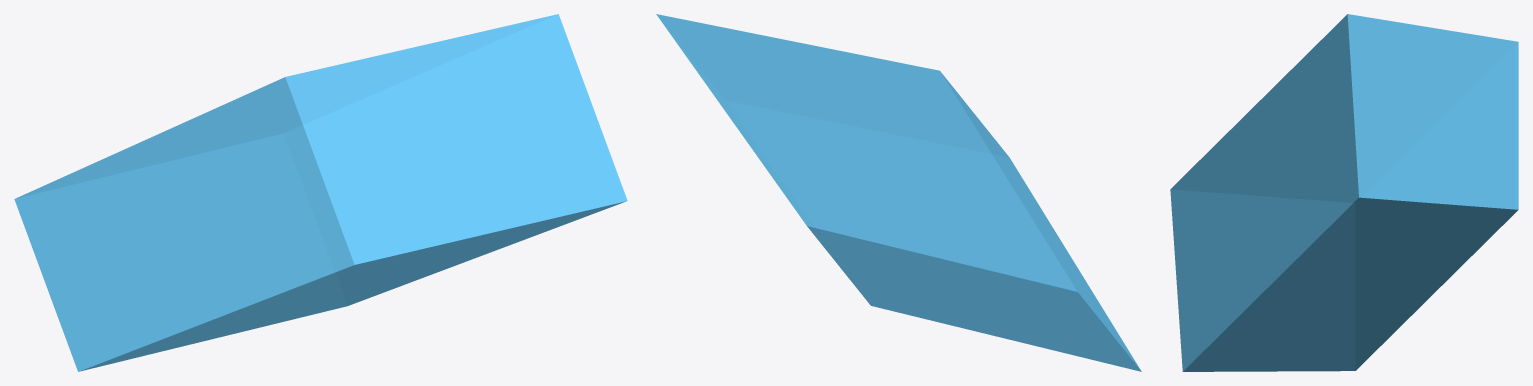
Rendered from Event_421556567_HBrechit_27.fbx.
3 renders of one model, left to right at view 1: azimuth 30°, elevation 25°; view 2: azimuth 150°, elevation 25°; view 3: azimuth 270°, elevation 25°, orthographic. The views are drawn at different scales.
Parts seen in each view (by area): view 1: Model; view 2: Model; view 3: Model.
Part boxes in pixels (bbox=[...]): Model: bbox=[14, 14, 627, 371]; Model: bbox=[656, 14, 1141, 371]; Model: bbox=[1170, 14, 1518, 371].
Size of the model in its own units: 1.18 by 0.5809 by 0.5798.
